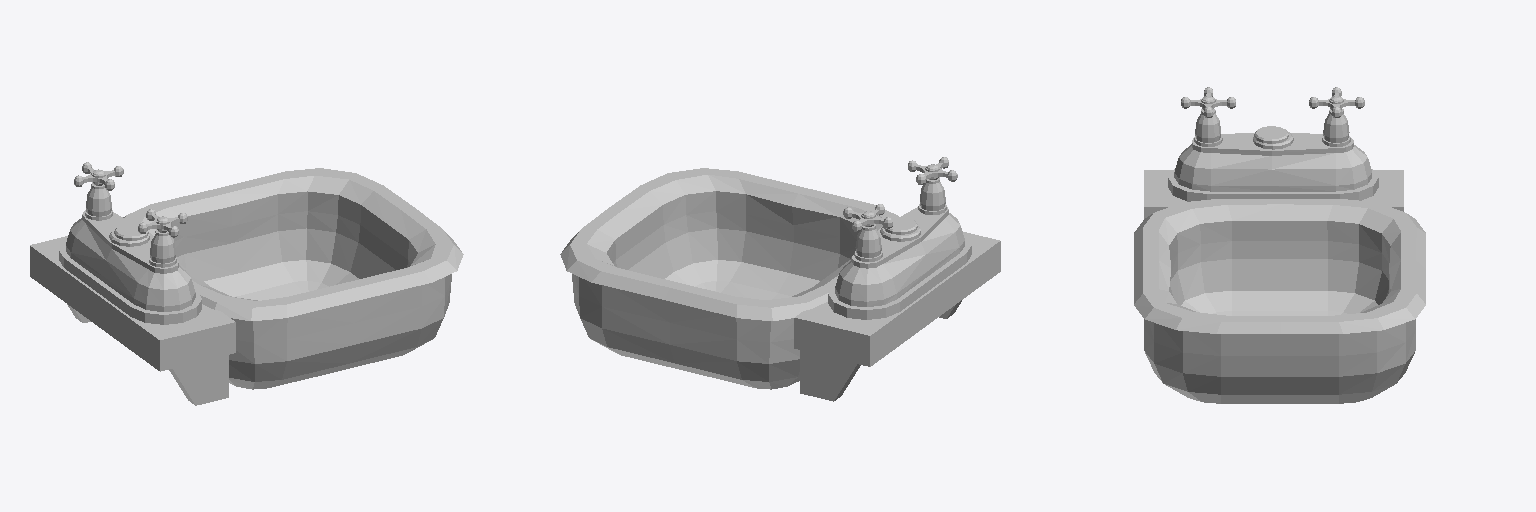
Rendered from sink.obj.
The picture shows the model from 3 angles: view 1: azimuth 30°, elevation 25°; view 2: azimuth 150°, elevation 25°; view 3: azimuth 270°, elevation 25°; orthographic projection.
Parts seen in each view (by area): view 1: OBJ_Sink; view 2: OBJ_Sink; view 3: OBJ_Sink.
Boxes of the visible parts, box(x1,y1,x2,y2) form: OBJ_Sink: box(30, 162, 463, 405); OBJ_Sink: box(560, 157, 1000, 401); OBJ_Sink: box(1134, 87, 1425, 403).
Size of the model in its own units: 82.64 by 46.17 by 63.7.